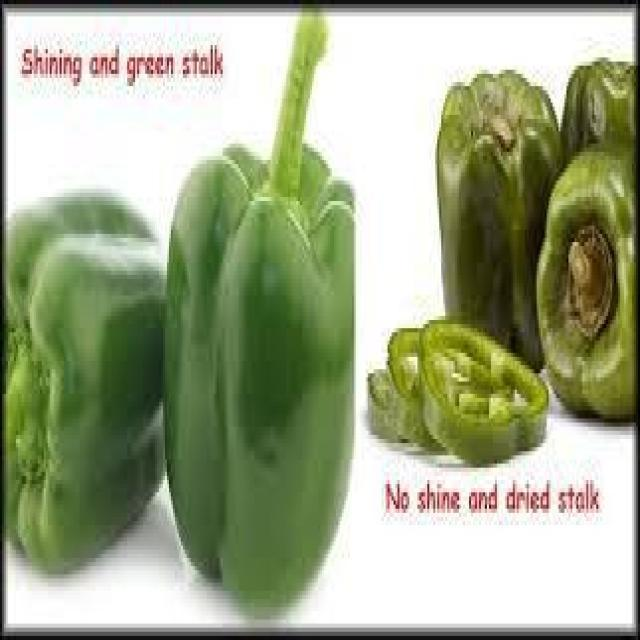bell_pepper: (146, 22, 361, 623), (6, 189, 168, 601)
